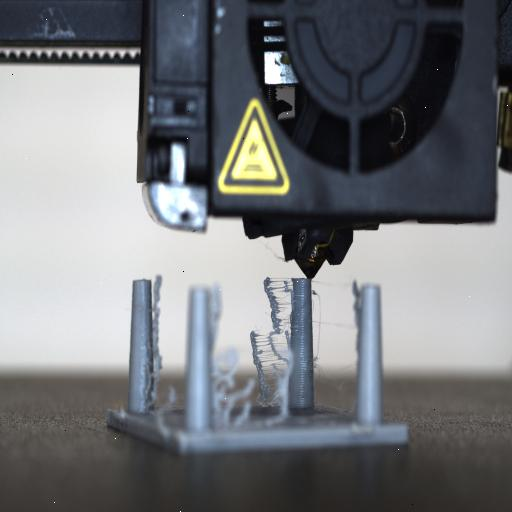stringing: (155, 277, 299, 432), (337, 279, 373, 407)
